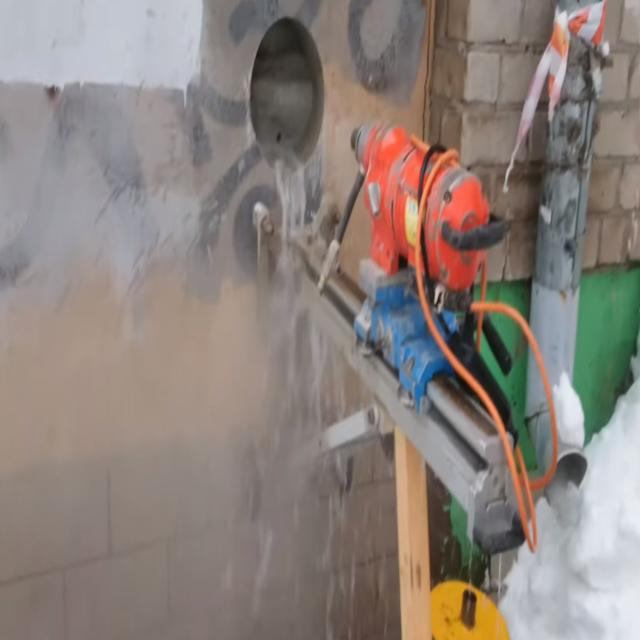leak: (221, 137, 400, 635)
